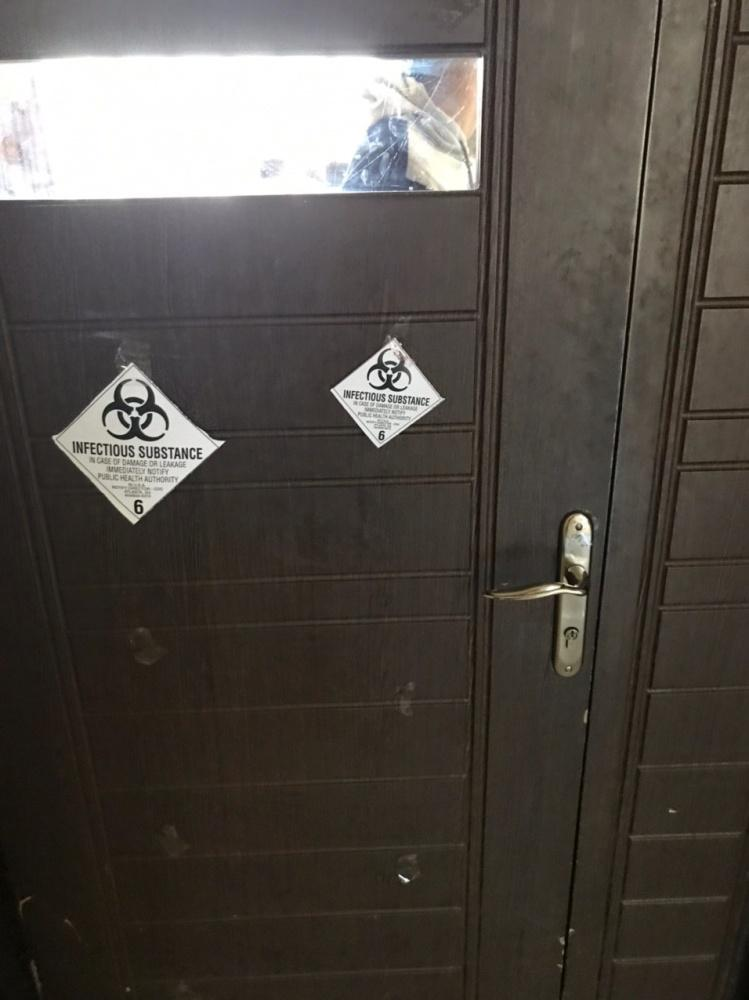infectious-substance: (55, 365, 218, 522), (333, 339, 446, 445)
